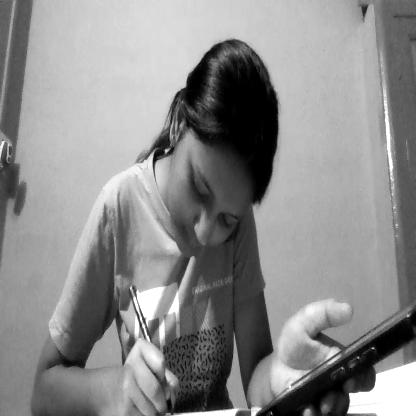Distracted: (160, 42, 283, 294)
